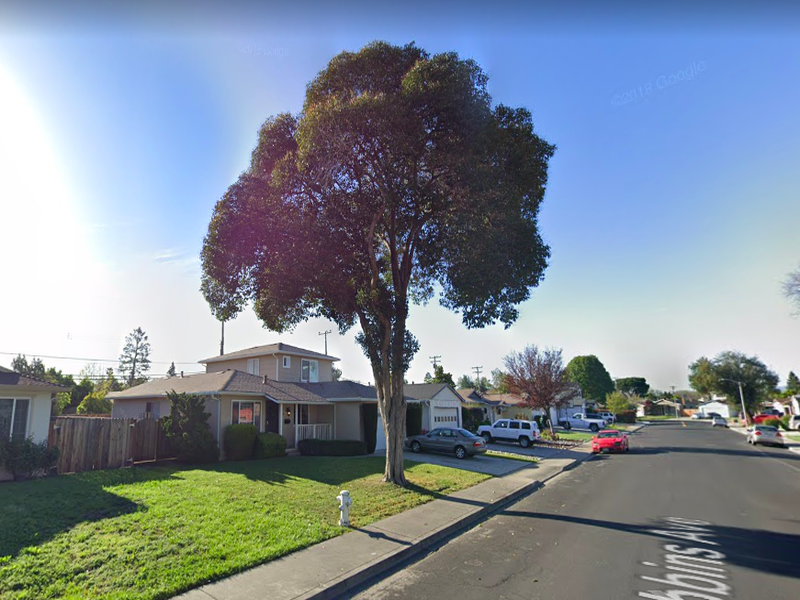tree: (200, 39, 558, 488)
